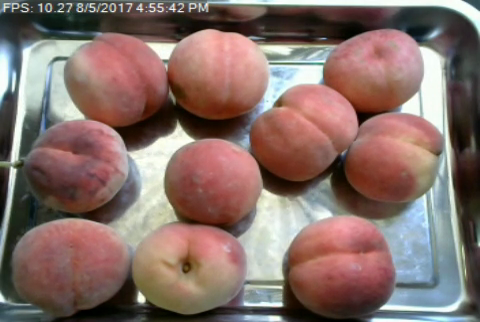Peach: (8, 216, 128, 316), (284, 215, 396, 319), (248, 82, 358, 182), (134, 222, 246, 316), (23, 117, 128, 213), (63, 32, 168, 127), (167, 26, 269, 120), (343, 111, 443, 203), (321, 26, 424, 114), (163, 137, 262, 227)
